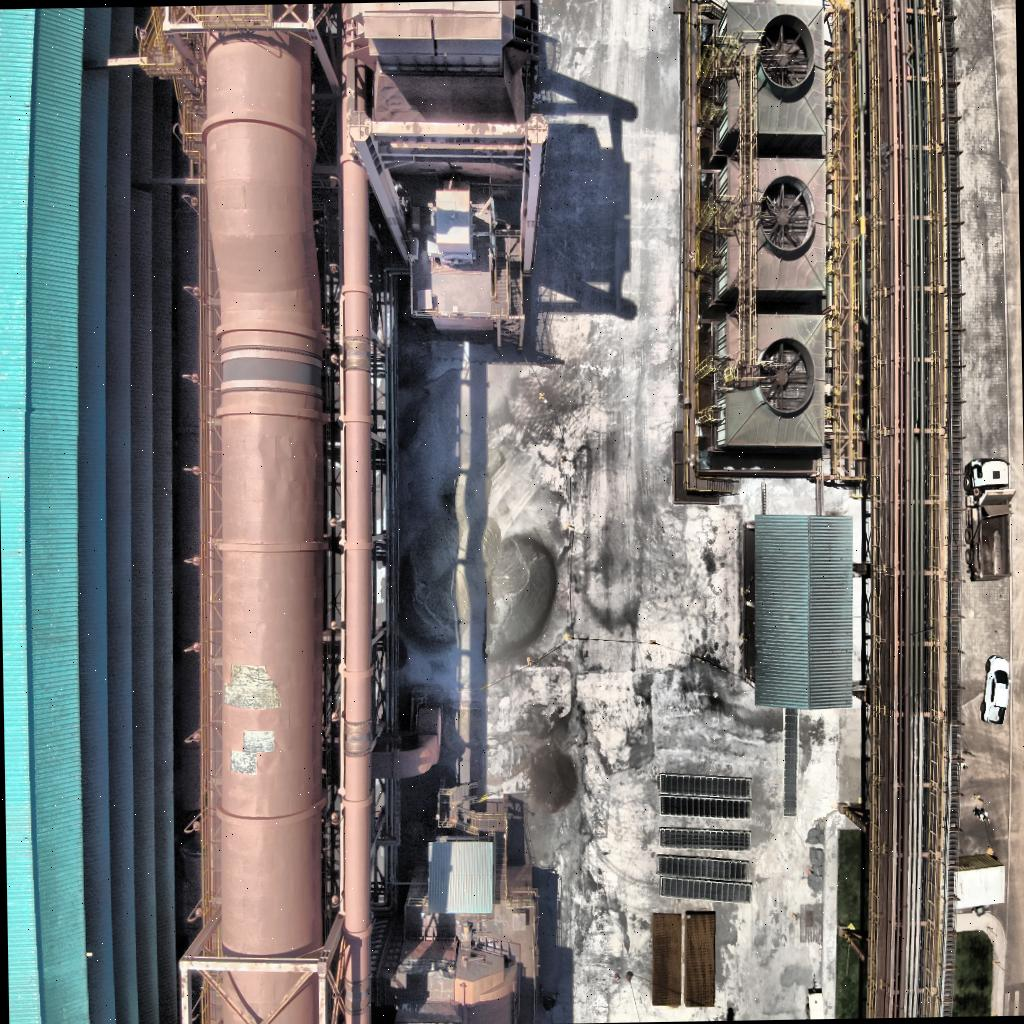Failures: (223, 662, 280, 708), (242, 728, 276, 753), (230, 749, 256, 773)
